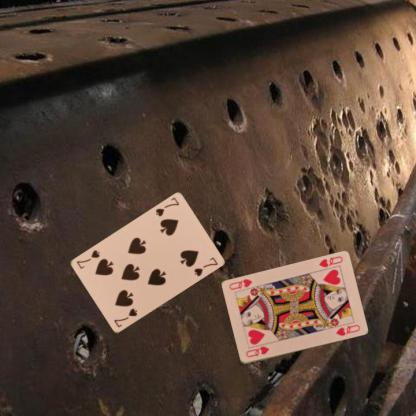7s: (153, 195, 180, 218), (112, 306, 138, 328)
Qh: (244, 344, 271, 359), (316, 254, 344, 268)
